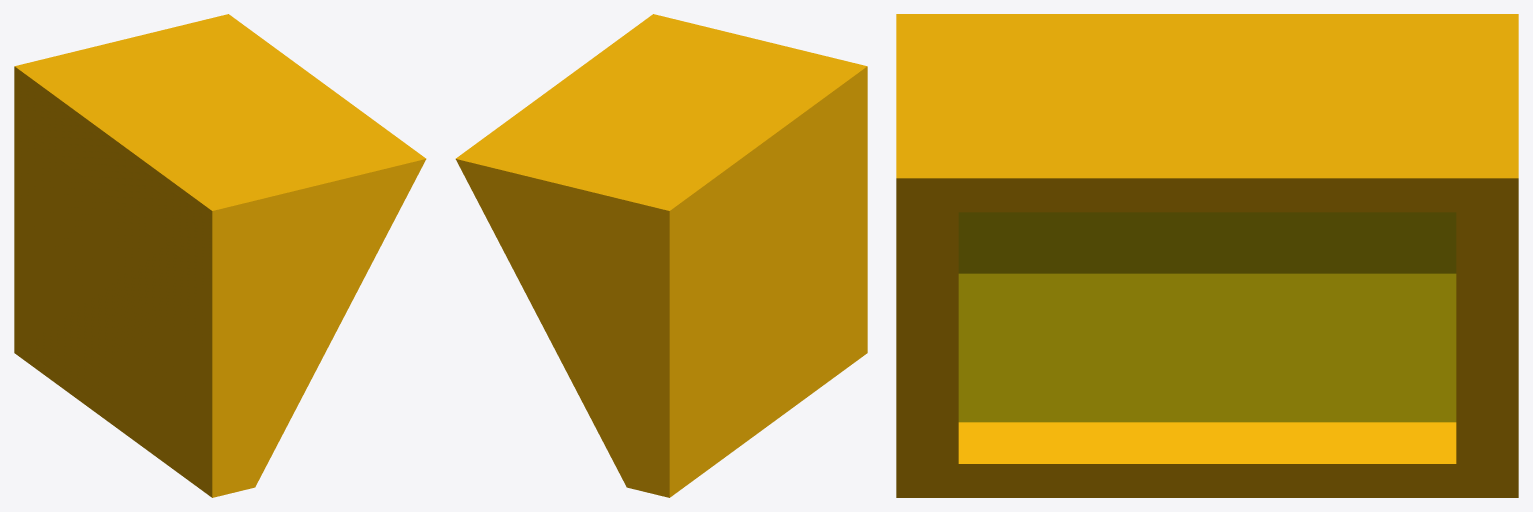
Rendered from bracket_light.dae.
3 views of the same model, side by side, from view 1: azimuth 30°, elevation 25°; view 2: azimuth 150°, elevation 25°; view 3: azimuth 270°, elevation 25° (orthographic). The views are drawn at different scales.
Visible parts, largest first — view 1: Cube; view 2: Cube; view 3: Cube.
Boxes of the visible parts, x1,y1,x2,y2 form: Cube: [14, 14, 426, 497]; Cube: [455, 14, 867, 497]; Cube: [896, 14, 1518, 497].
Size of the model in its own units: 0.1562 by 0.25 by 0.2.
